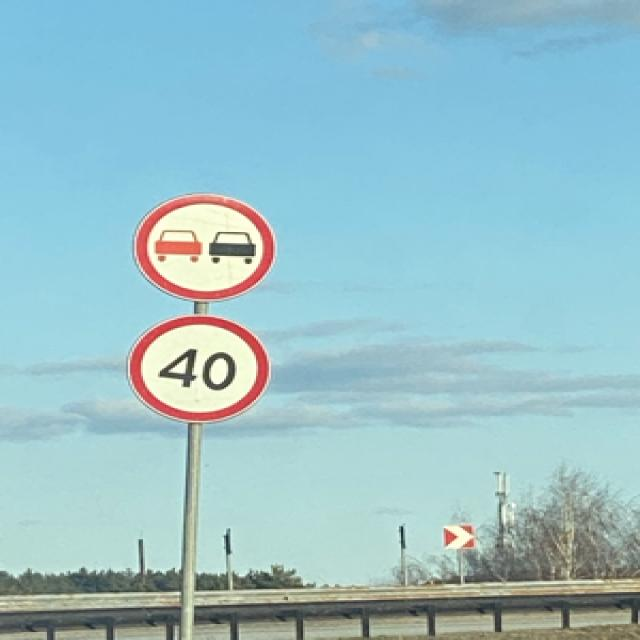speedlimit: (121, 312, 266, 421)
